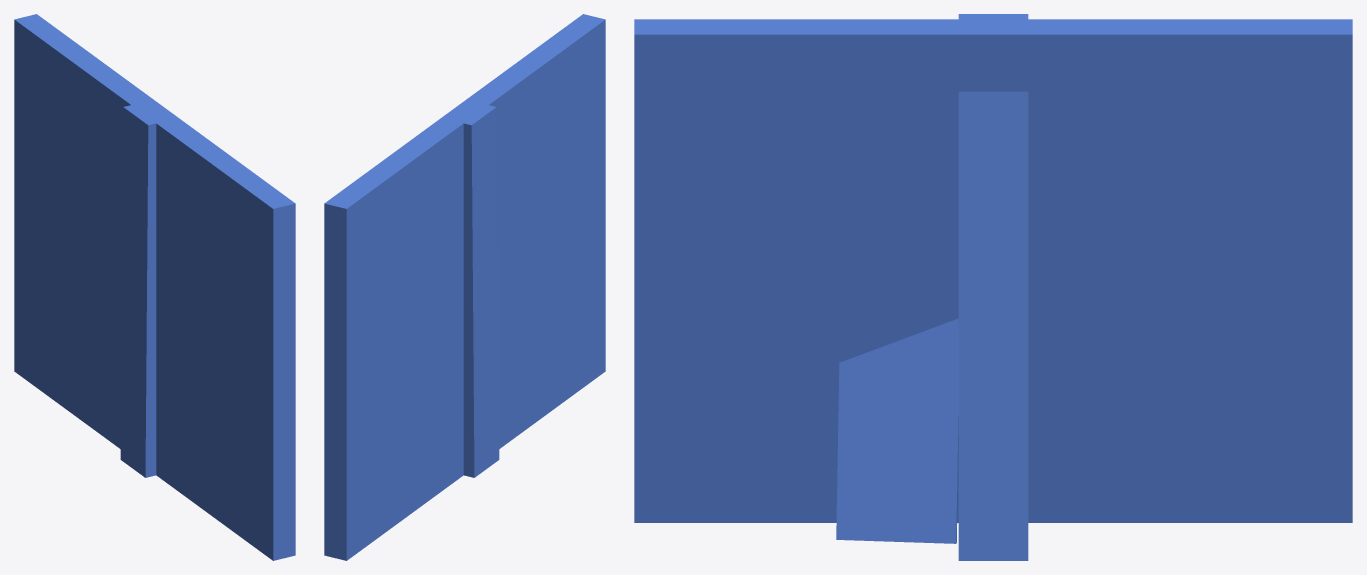
File: WallAstra_Straight_Broken_Collision.fbx
3 views of the same model, side by side, from view 1: azimuth 30°, elevation 25°; view 2: azimuth 150°, elevation 25°; view 3: azimuth 270°, elevation 25° (orthographic). The views are drawn at different scales.
Parts seen in each view (by area): view 1: WallAstra_Straight_Broken_Collision; view 2: WallAstra_Straight_Broken_Collision; view 3: WallAstra_Straight_Broken_Collision.
Part boxes in pixels (x1=…): WallAstra_Straight_Broken_Collision: x1=14, y1=14, x2=295, y2=560; WallAstra_Straight_Broken_Collision: x1=324, y1=14, x2=605, y2=560; WallAstra_Straight_Broken_Collision: x1=634, y1=14, x2=1352, y2=560.
Bounding box in the file's own units: 79.61 × 300 × 400.
